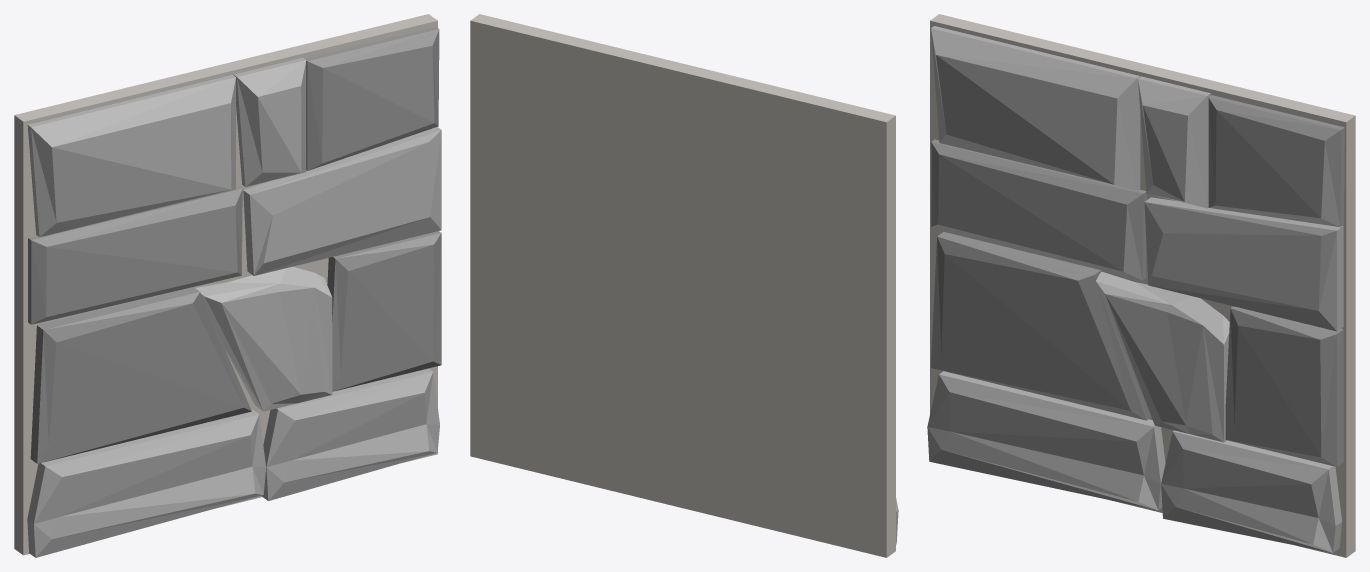
Rendered from _FOUNDATION_02_1.fbx.
The picture shows the model from 3 angles, left to right: view 1: azimuth 30°, elevation 25°; view 2: azimuth 150°, elevation 25°; view 3: azimuth 330°, elevation 25°; orthographic projection.
Visible parts, largest first — view 1: FOUNDATION_02_1; view 2: FOUNDATION_02_1; view 3: FOUNDATION_02_1.
Part boxes in pixels (bbox=[...]): FOUNDATION_02_1: bbox=[14, 14, 441, 557]; FOUNDATION_02_1: bbox=[470, 14, 898, 557]; FOUNDATION_02_1: bbox=[927, 14, 1355, 557].
Bounding box in the file's own units: 100 × 100 × 8.95.
